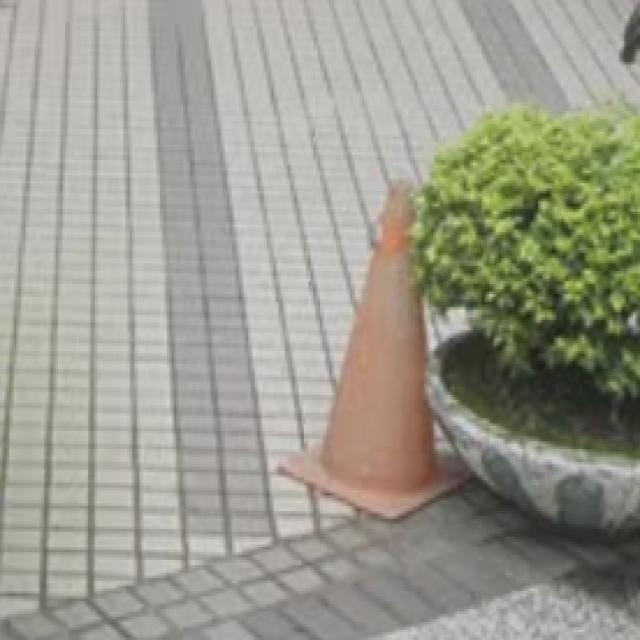cone: (304, 171, 444, 518)
